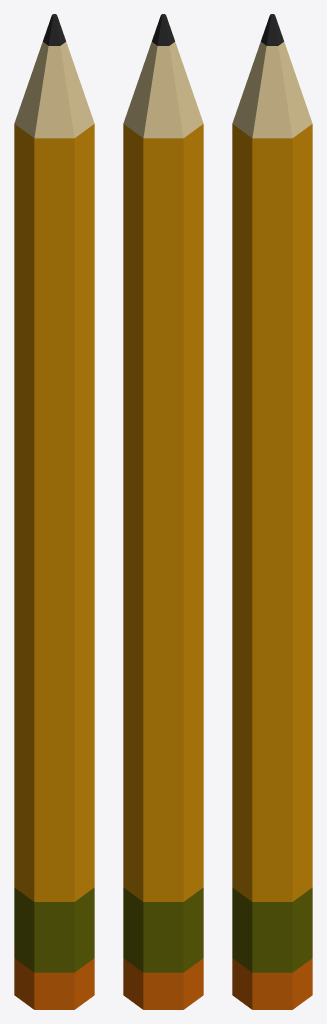
The model's file is pencil.fbx.
The picture shows the model from 3 angles, left to right: view 1: azimuth 90°, elevation 25°; view 2: azimuth 150°, elevation 25°; view 3: azimuth 270°, elevation 25°; orthographic projection.
Visible parts, largest first — view 1: Cylinder; view 2: Cylinder; view 3: Cylinder.
Part boxes in pixels (box(x1,y1,x2,y2)): Cylinder: box(14, 14, 94, 1009); Cylinder: box(123, 14, 203, 1009); Cylinder: box(232, 14, 312, 1009).
Size of the model in its own units: 1.21 by 18.86 by 1.4.
